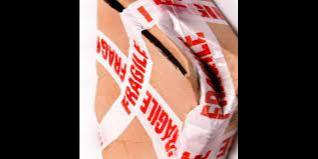damage_box: (90, 0, 236, 159)
